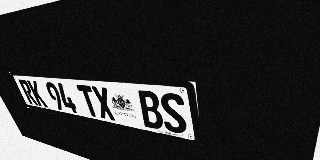4: (55, 83, 78, 113)
9: (44, 82, 66, 111)
B: (136, 90, 165, 130)
K: (27, 80, 48, 107)
R: (18, 79, 38, 106)
S: (158, 92, 188, 135)
T: (76, 85, 101, 118)
X: (90, 86, 116, 121)
